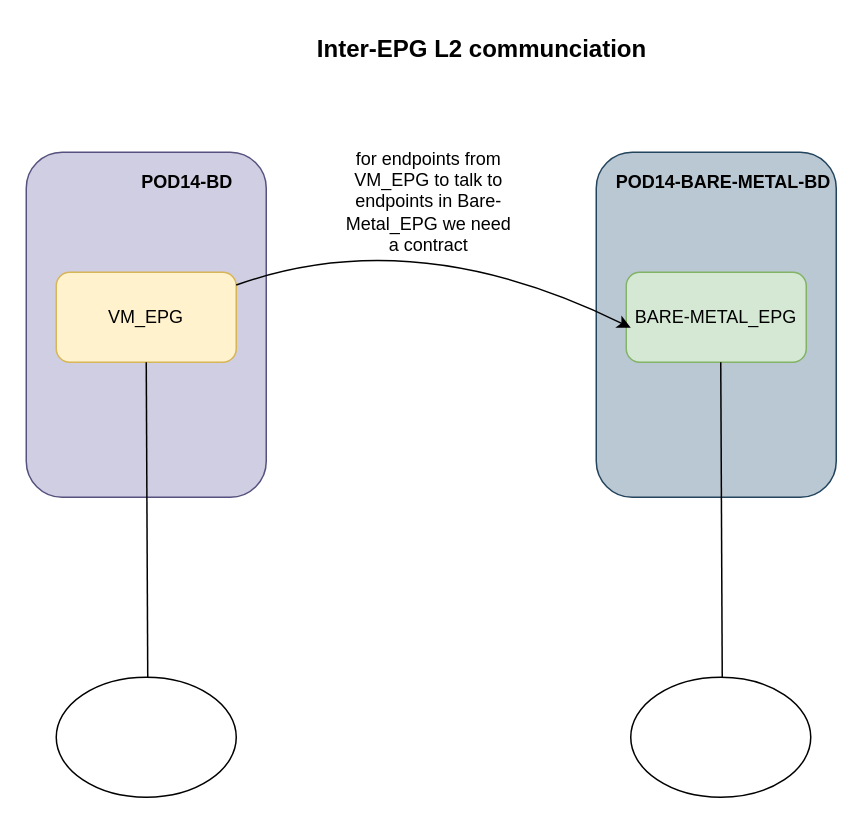
Image size: 863x824. Some labels were removed from this diagram. The shapes that lost their labels are listed below. From the top down, each one's box as (x1, y1, x2, y2) in pixels, then its label:
(55, 676, 236, 797): DB_VM
(629, 676, 811, 797): External switch (acting as Bare Metal Server)
